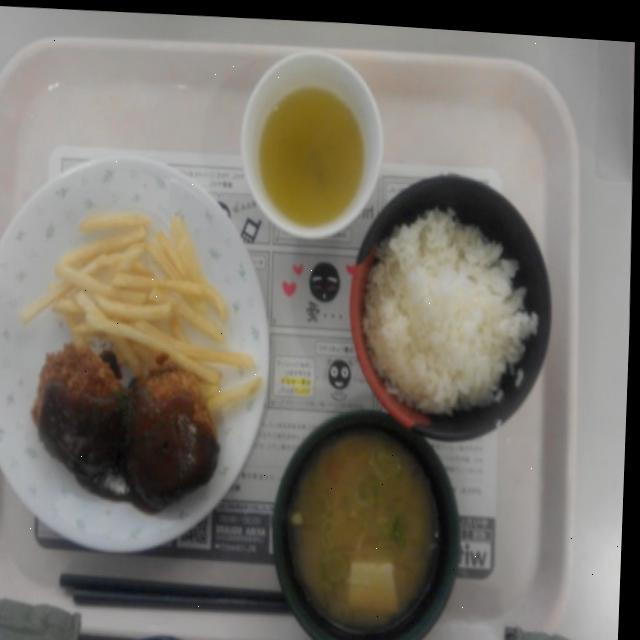炸货点心: (18, 189, 267, 432)
米饭主食: (347, 155, 560, 447)
